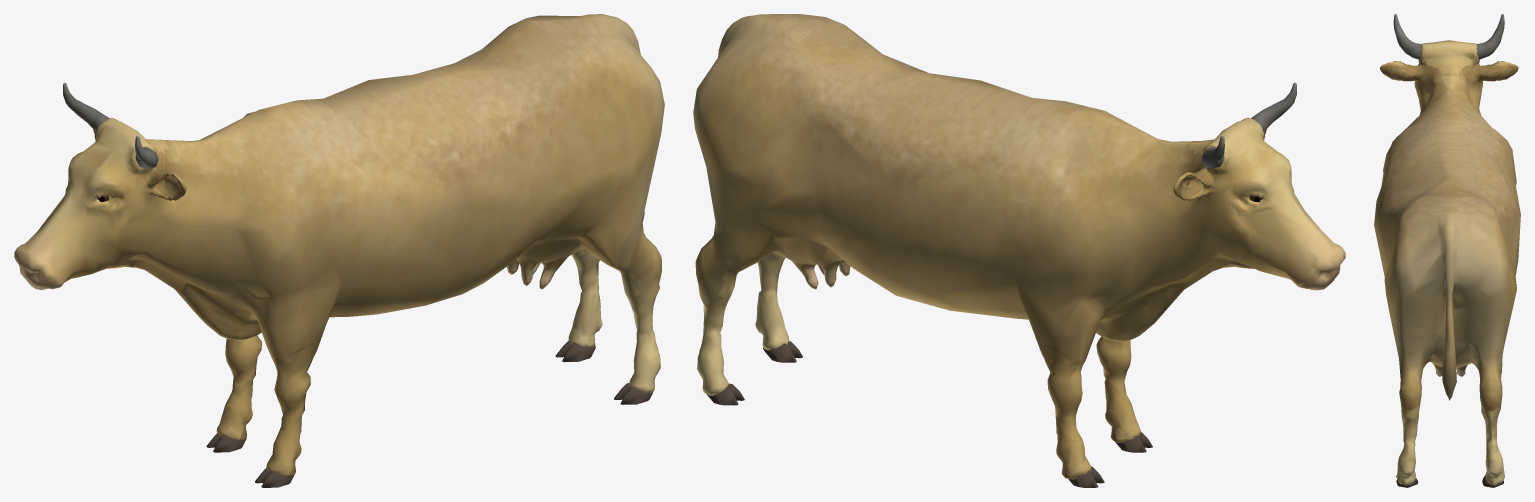
Rendered from Cow WhiteYellow.fbx.
The picture shows the model from 3 angles, left to right: view 1: azimuth 30°, elevation 25°; view 2: azimuth 150°, elevation 25°; view 3: azimuth 270°, elevation 25°; orthographic projection. The views are drawn at different scales.
Parts seen in each view (by area): view 1: COWBODY, COWcuern; view 2: COWBODY, COWcuern; view 3: COWBODY, COWcuern.
Boxes of the visible parts, x1,y1,x2,y2 form: COWBODY: [14, 14, 664, 476]; COWcuern: [63, 83, 158, 168]; COWBODY: [693, 14, 1345, 479]; COWcuern: [1201, 82, 1296, 168]; COWBODY: [1374, 40, 1520, 485]; COWcuern: [1393, 14, 1504, 59].
Size of the model in its own units: 1220 by 731 by 338.
Materials: 4 (3 with a texture image).
